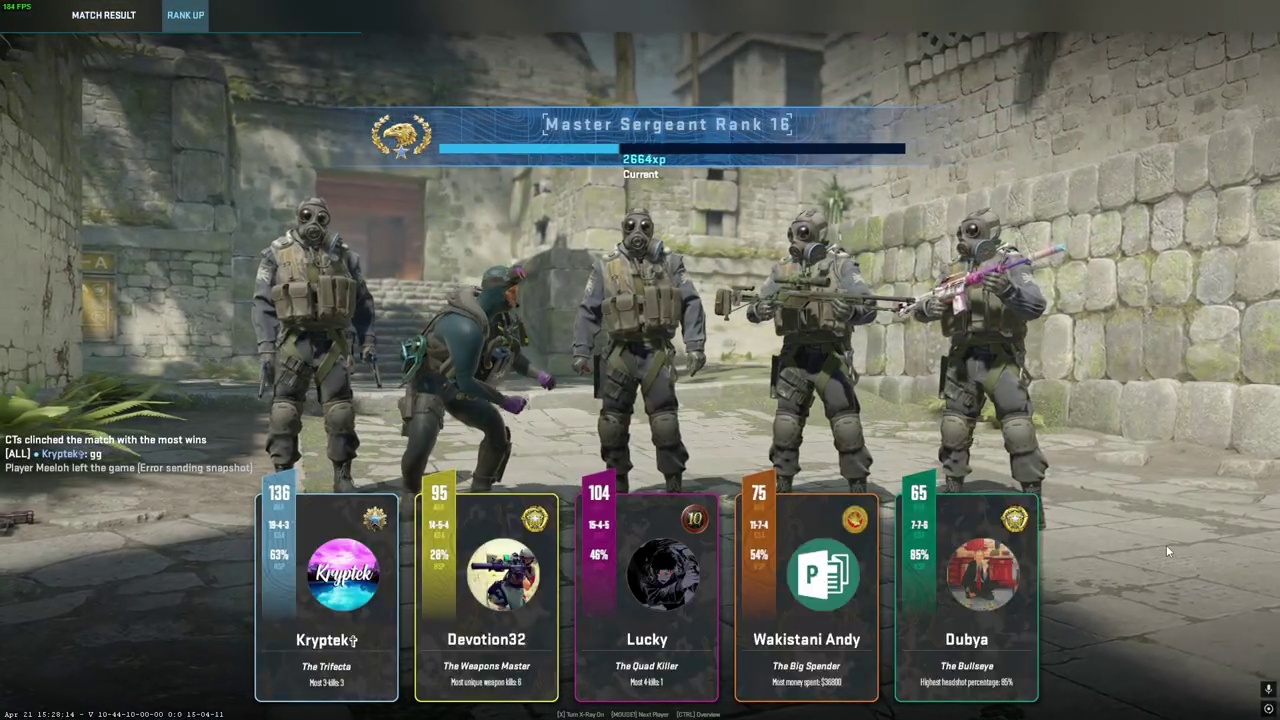CT: (930, 210, 1044, 519), (257, 197, 366, 491), (761, 210, 874, 493), (587, 208, 693, 495), (406, 264, 529, 498)
